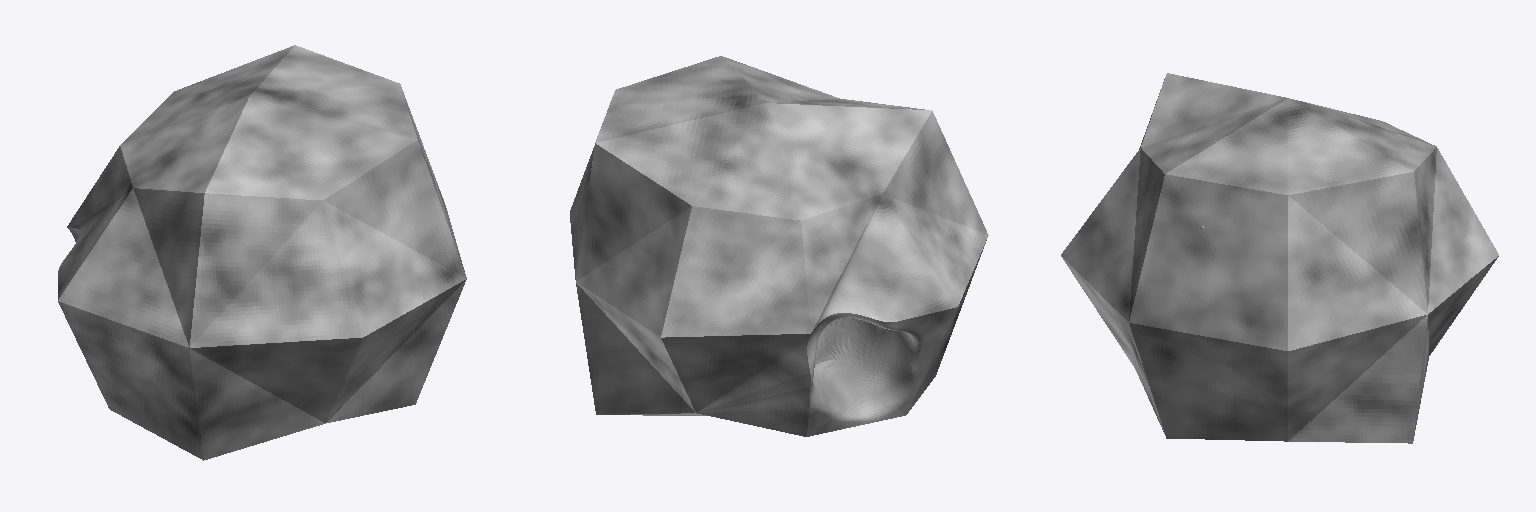
The picture shows the model from 3 angles: view 1: azimuth 30°, elevation 25°; view 2: azimuth 150°, elevation 25°; view 3: azimuth 270°, elevation 25°; orthographic projection.
Parts seen in each view (by area): view 1: asteroid4_asteroid.001; view 2: asteroid4_asteroid.001; view 3: asteroid4_asteroid.001.
Part boxes in pixels (left/top/right/bottom): asteroid4_asteroid.001: left=58, top=45, right=466, bottom=460; asteroid4_asteroid.001: left=570, top=56, right=988, bottom=436; asteroid4_asteroid.001: left=1061, top=73, right=1498, bottom=443.
Size of the model in its own units: 3.52 by 2.71 by 3.44.
Materials: 1 (1 with a texture image).